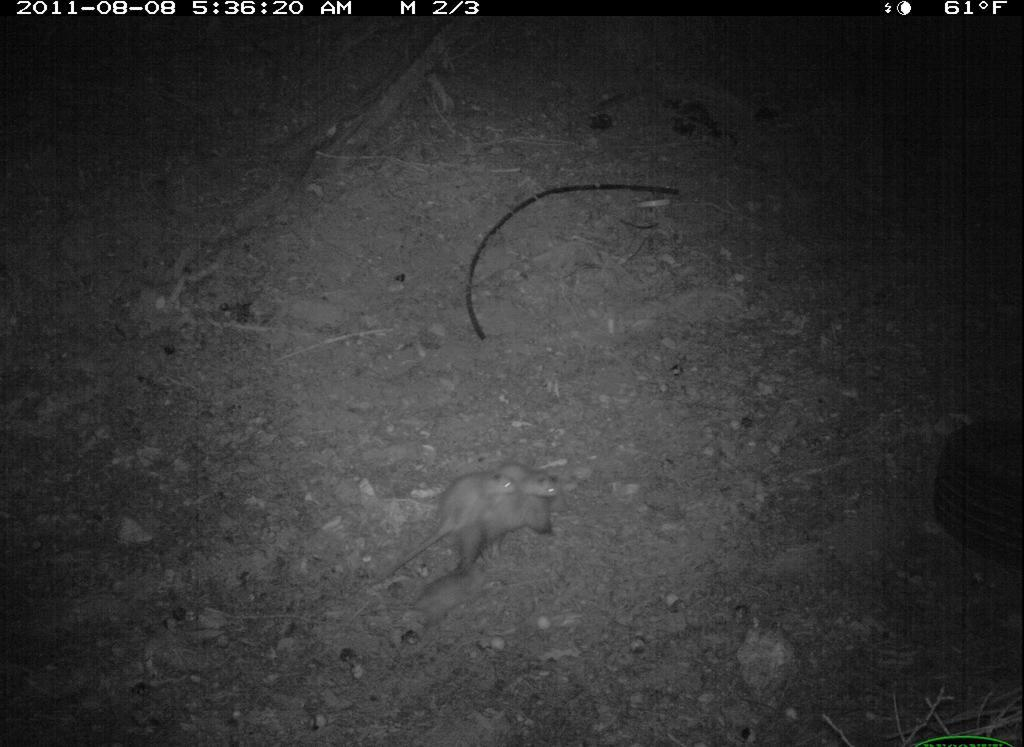opossum: (409, 459, 573, 571), (372, 473, 515, 579)
